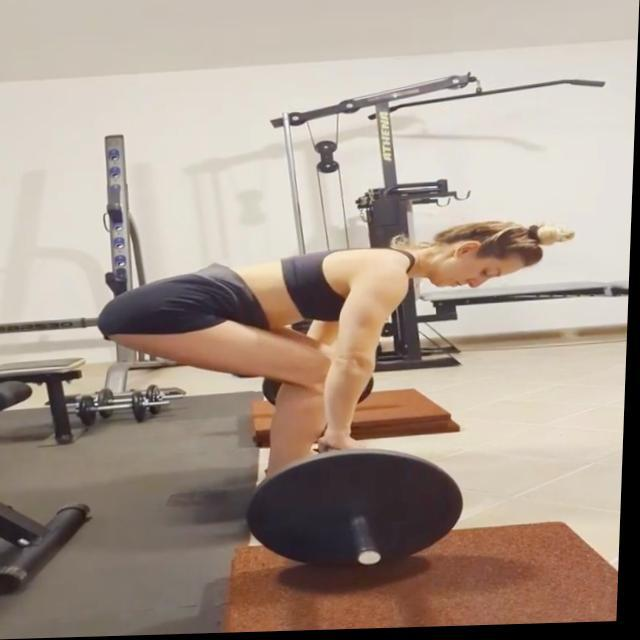barbell: (238, 450, 474, 584)
